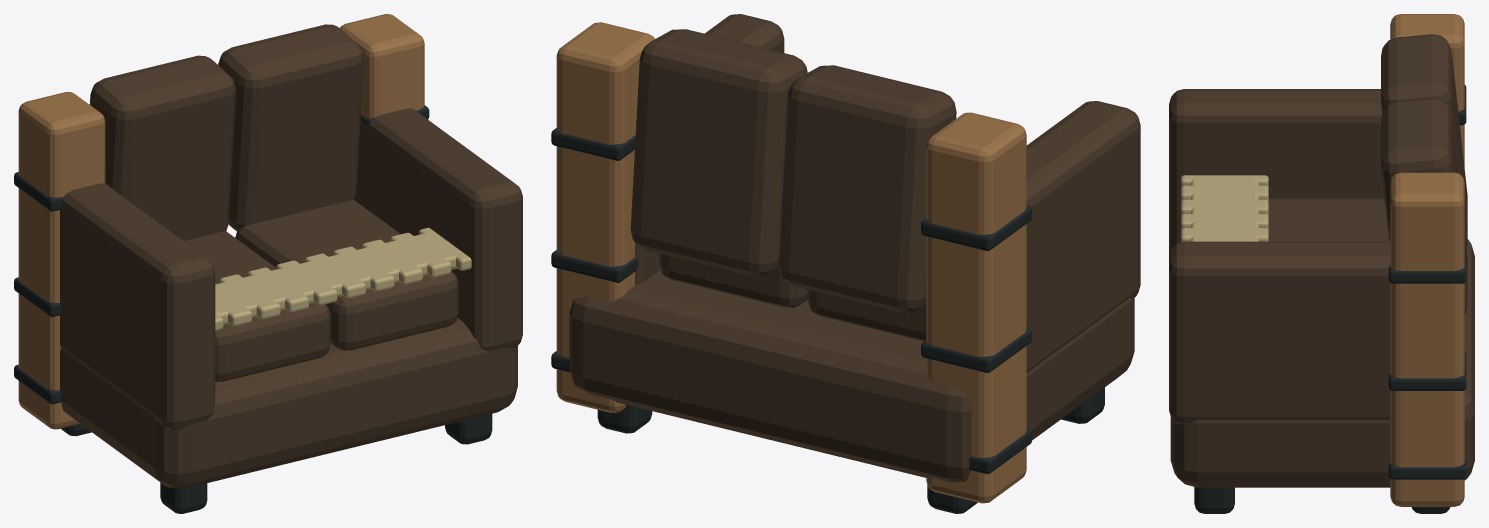
Rendered from best.glb.
The picture shows the model from 3 angles, left to right: view 1: azimuth 30°, elevation 25°; view 2: azimuth 150°, elevation 25°; view 3: azimuth 270°, elevation 25°; orthographic projection. The views are drawn at different scales.
Visible parts, largest first — view 1: Armrest, Timber post, Fur tufts, Iron strap; view 2: Armrest, Timber post, Iron strap; view 3: Armrest, Timber post, Fur tufts, Iron strap.
Boxes of the visible parts, x1,y1,x2,y2 form: Armrest: (60,24,522,488); Timber post: (18,14,457,429); Fur tufts: (215,227,471,331); Iron strap: (14,105,492,513); Armrest: (569,14,1140,482); Timber post: (556,22,1026,503); Iron strap: (551,128,1104,513); Armrest: (1169,34,1474,487); Timber post: (1390,14,1464,506); Fur tufts: (1181,175,1268,242); Iron strap: (1194,85,1466,513).
Bounding box in the file's own units: 1.47 × 1.26 × 1.01.
